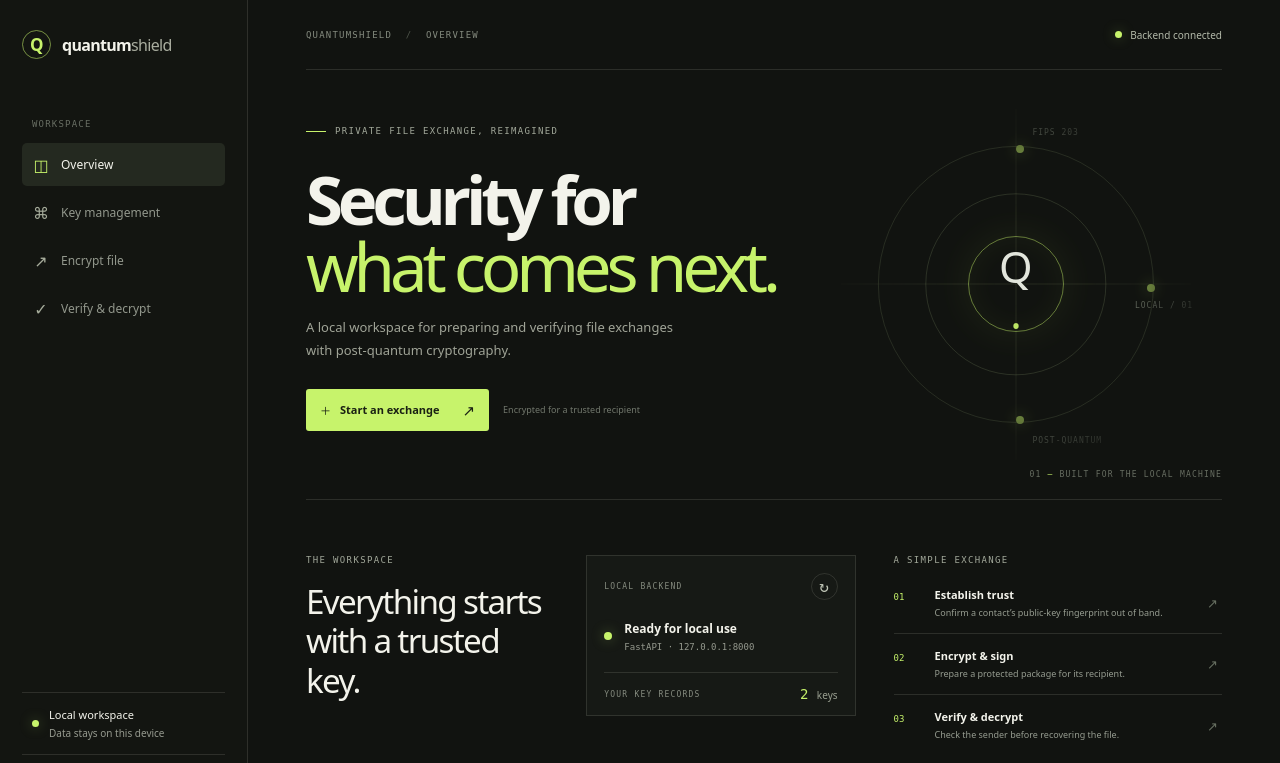
QuantumShield frontend workflows › sends key generation to the actual route contract and clears the passphrase field
Click the button "⌘ Key management": (124,212) [22,191,225,234]
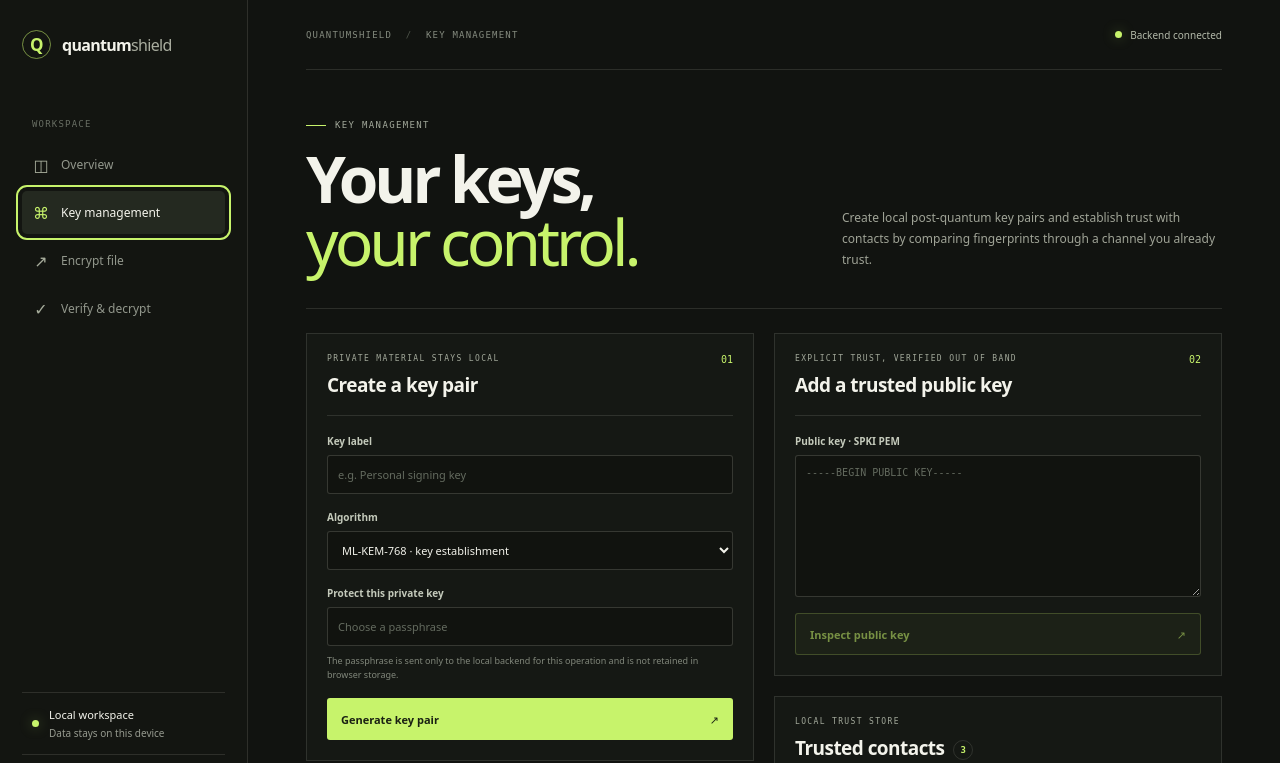
In the field labelled "Key label": (530,475) [327,455,733,494], type "New local recipient"
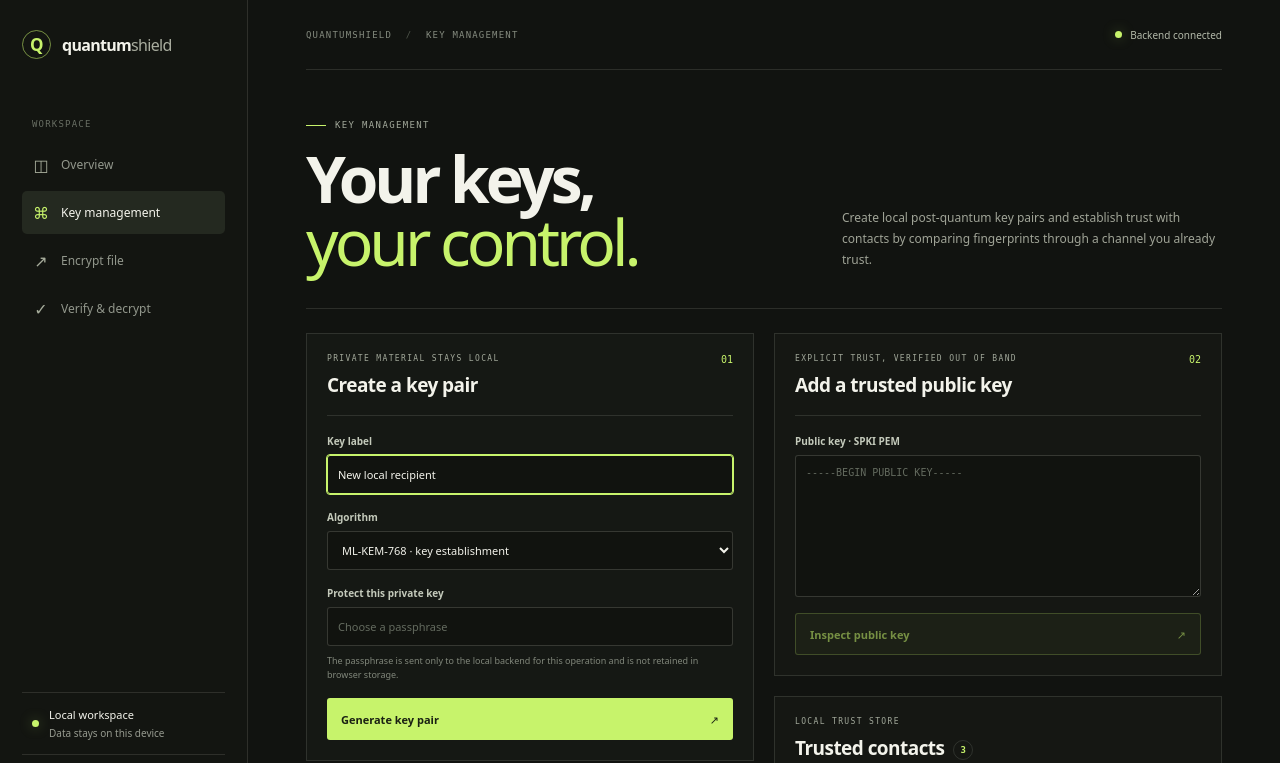
In the password field labelled "Protect this private key": (530,627) [327,607,733,646], type "temporary passphrase"
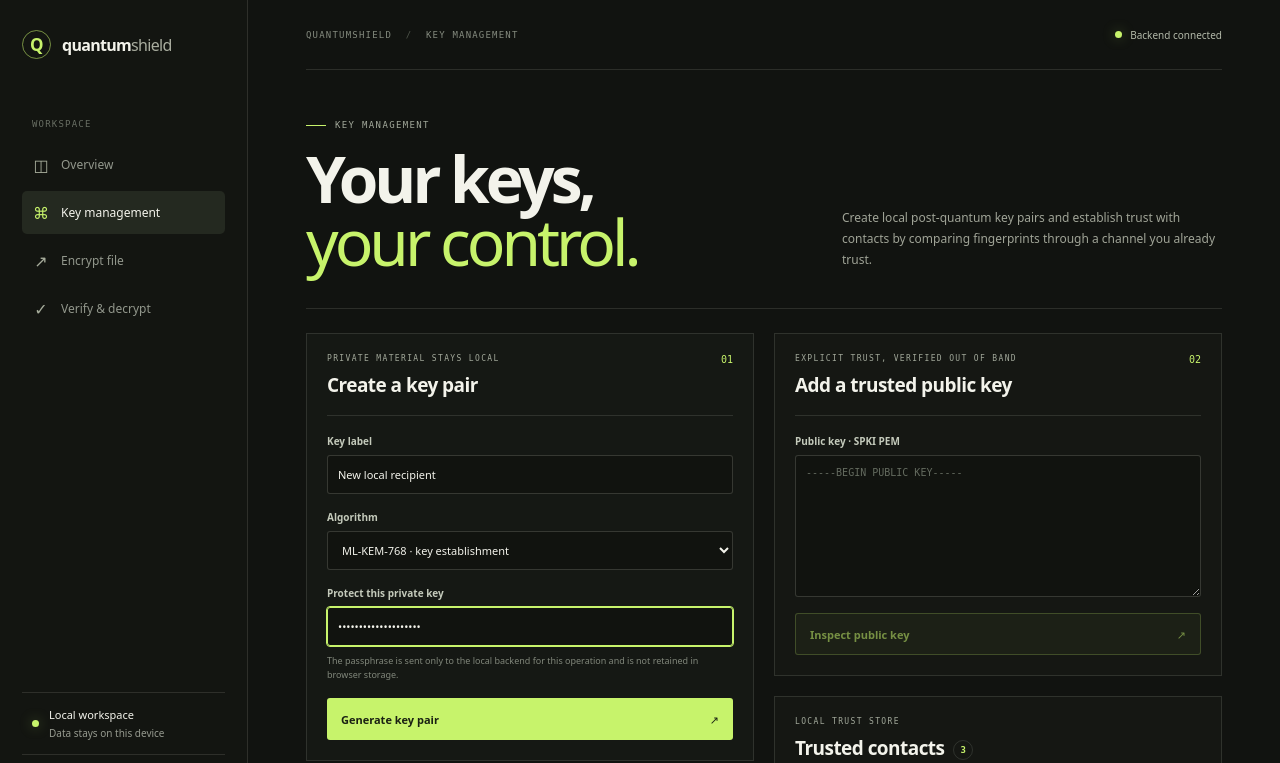
Click the button "Generate key pair ↗": (390,719) [327,698,733,740]
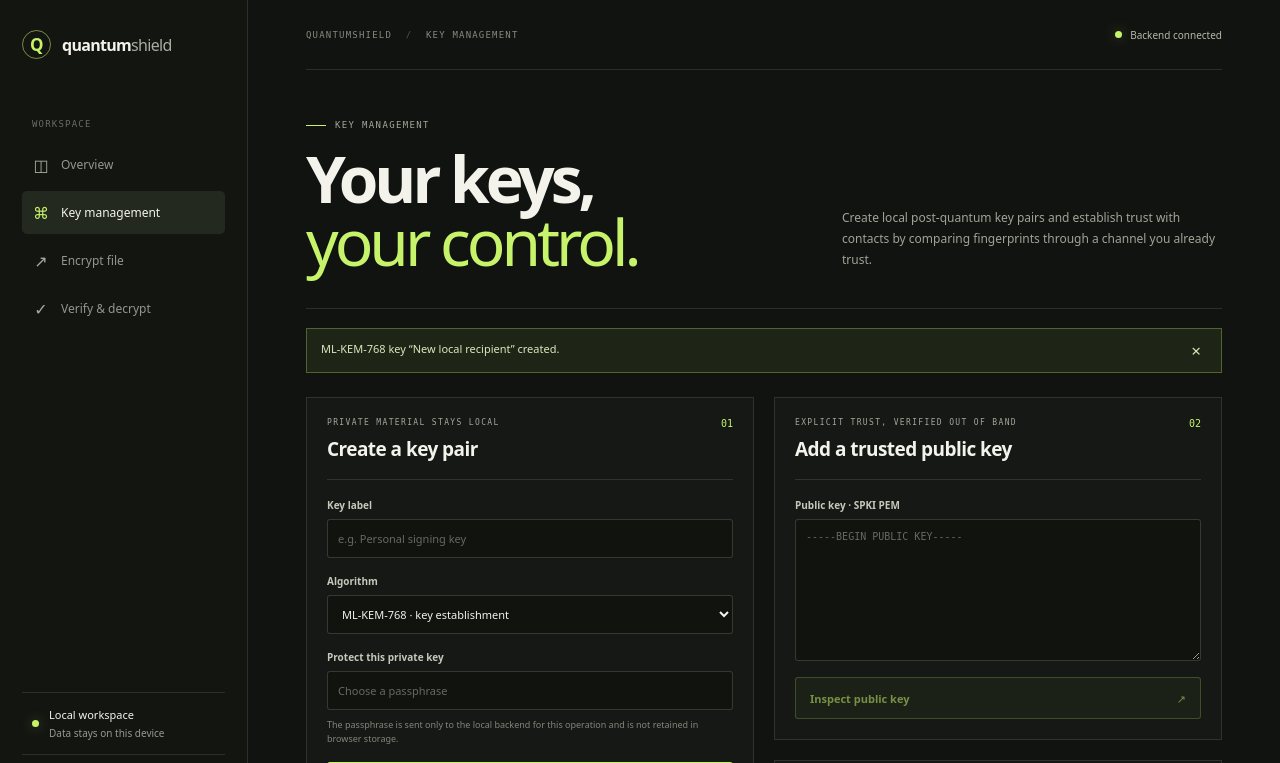
Expected: the text "ML-KEM-768 key “New local recipient” created. ×" is shown, [306,328,1222,373]
Expected: the password field labelled "Protect this private key" is empty, [327,671,733,710]
